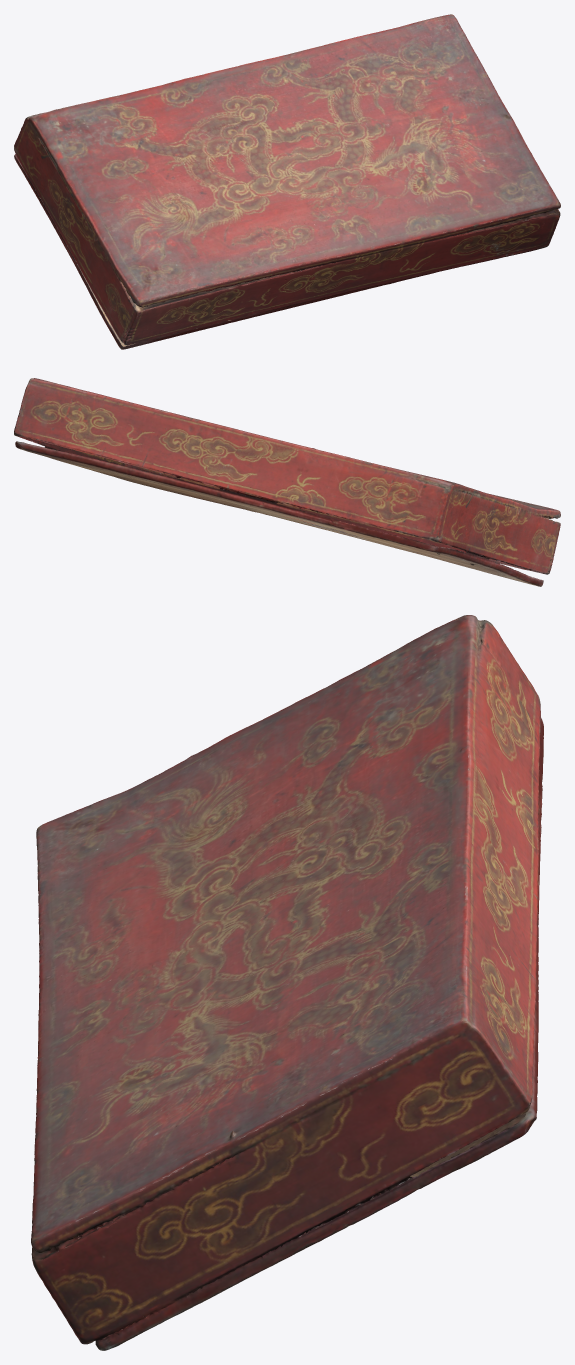
The model's file is hop-dung-sach.glb.
The picture shows the model from 3 angles, top to bottom: view 1: azimuth 30°, elevation 25°; view 2: azimuth 150°, elevation 25°; view 3: azimuth 270°, elevation 25°; orthographic projection. The views are drawn at different scales.
Visible parts, largest first — view 1: Polygonal_Model_1 116; view 2: Polygonal_Model_1 116; view 3: Polygonal_Model_1 116.
Part boxes in pixels (x1,y1,x2,y2): Polygonal_Model_1 116: [14, 14, 560, 349]; Polygonal_Model_1 116: [14, 378, 560, 586]; Polygonal_Model_1 116: [31, 615, 543, 1350].
Bounding box in the file's own units: 34.8 × 13.27 × 18.16.
1 material, 1 textured.
